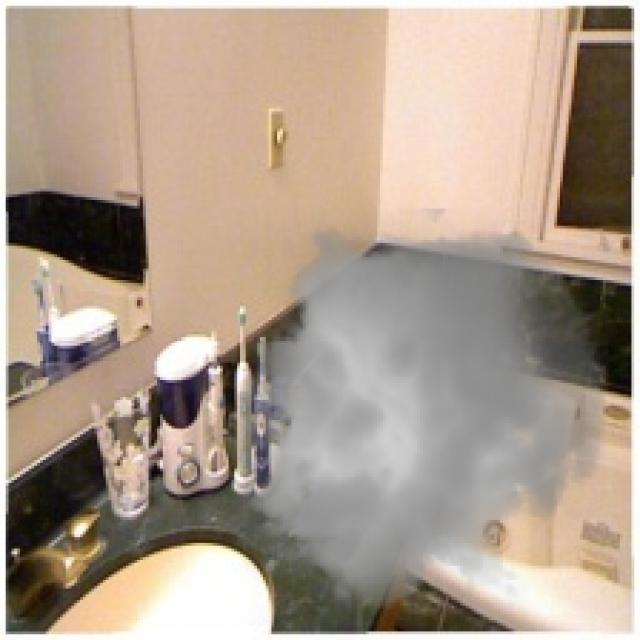Smoke: (225, 208, 620, 626)
